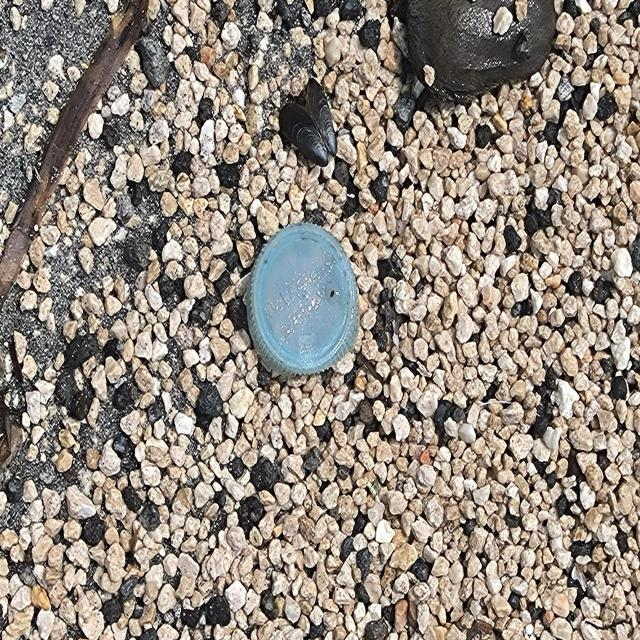plastic_waste: (246, 222, 362, 380)
